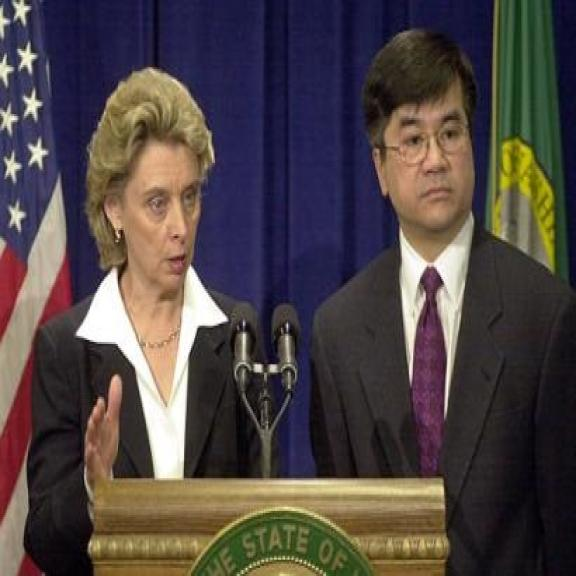face: (368, 91, 478, 243), (100, 144, 206, 295)
